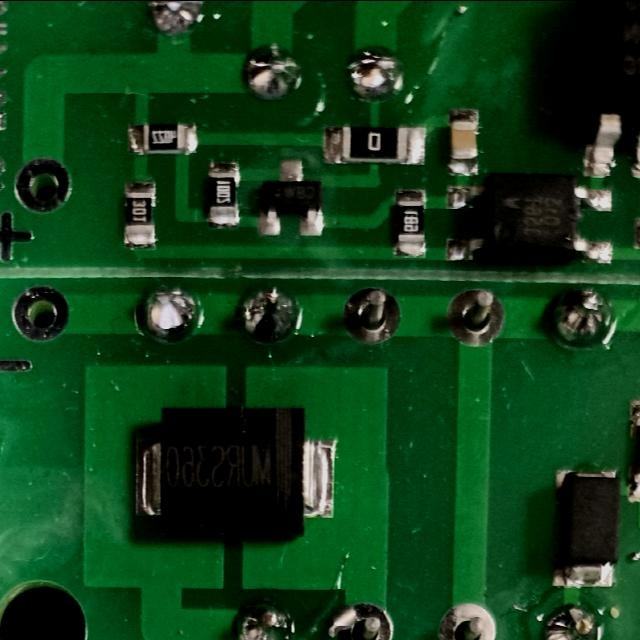chip-capacitor: (448, 106, 480, 175)
chip-resistor: (324, 124, 432, 168), (204, 156, 244, 232), (120, 181, 159, 251), (393, 186, 431, 257), (129, 119, 198, 157)
diode: (130, 403, 343, 537), (551, 465, 621, 591)
ic: (444, 178, 616, 262)
transistor: (257, 156, 327, 240)
